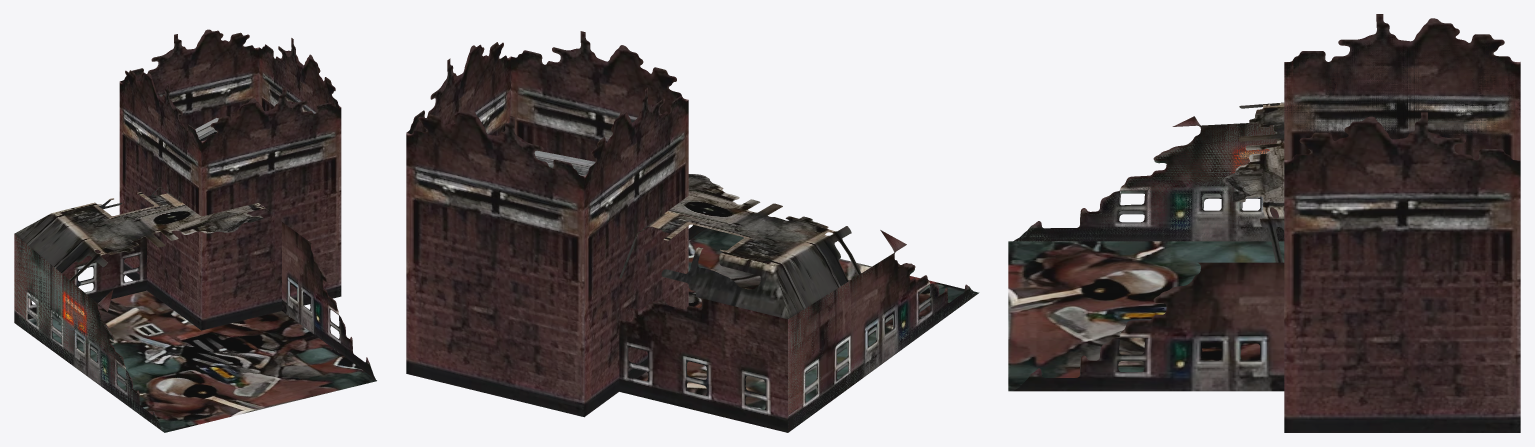
The model's file is industrialplant_dam_hdtex.glb.
The picture shows the model from 3 angles, left to right: view 1: azimuth 30°, elevation 25°; view 2: azimuth 150°, elevation 25°; view 3: azimuth 270°, elevation 25°; orthographic projection. The views are drawn at different scales.
Parts seen in each view (by area): view 1: IndustrialPlant Damaged; view 2: IndustrialPlant Damaged; view 3: IndustrialPlant Damaged.
Part boxes in pixels (bbox=[...]): IndustrialPlant Damaged: bbox=[14, 29, 376, 432]; IndustrialPlant Damaged: bbox=[406, 31, 979, 432]; IndustrialPlant Damaged: bbox=[1008, 14, 1520, 432].
Size of the model in its own units: 16.74 by 13.4 by 18.93.
Materials: 2 (2 with a texture image).
